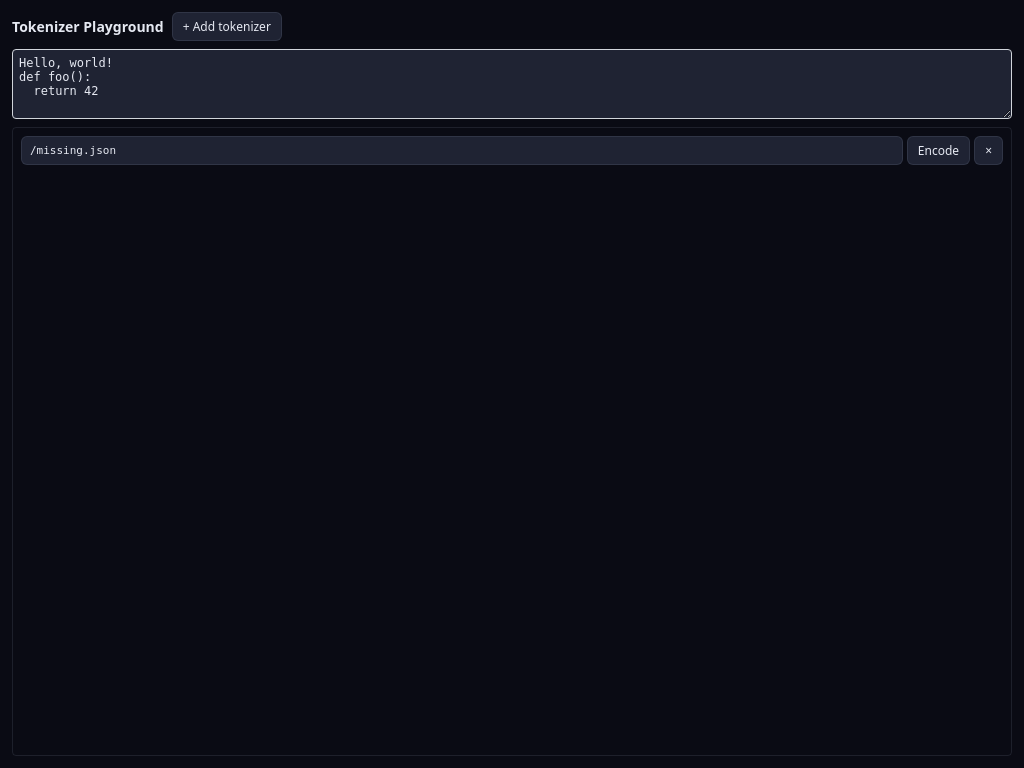
it: TokenizerPlayground › V7-H46: roundtrip pill hidden when backend omits byte_roundtrip
Click the button with test id "tokenizer-encode-0" at coordinates (939, 150), box [907,136,970,165]
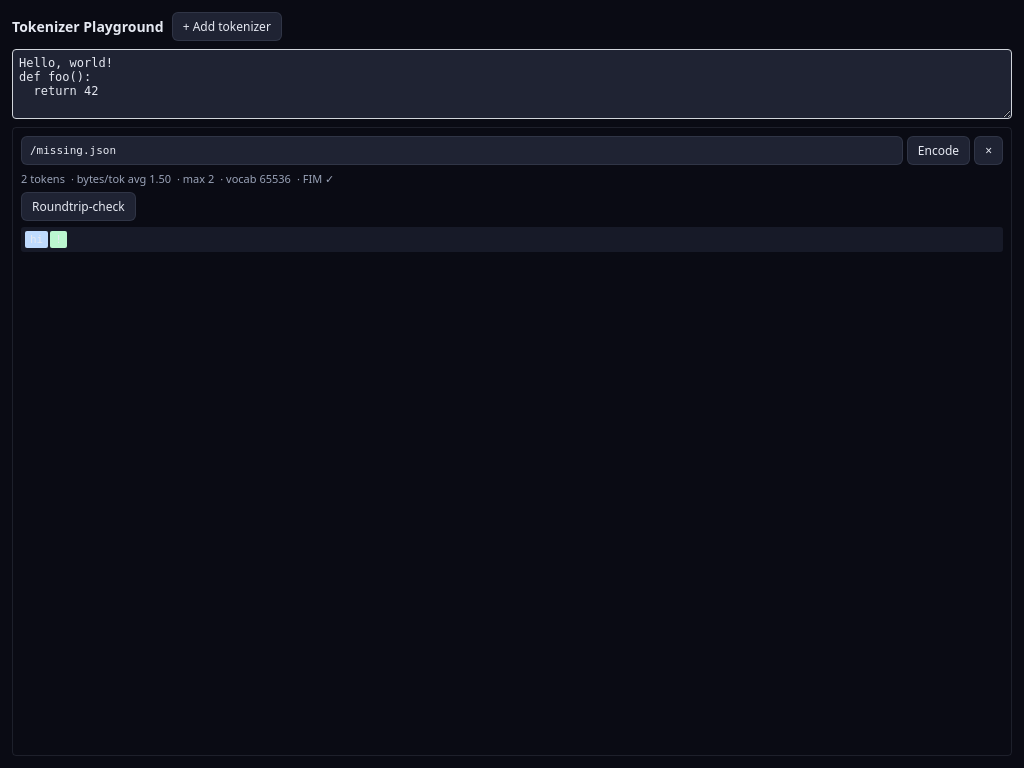
Check: the element with test id "tokenizer-metrics-0" is shown, box [21,171,334,186]
